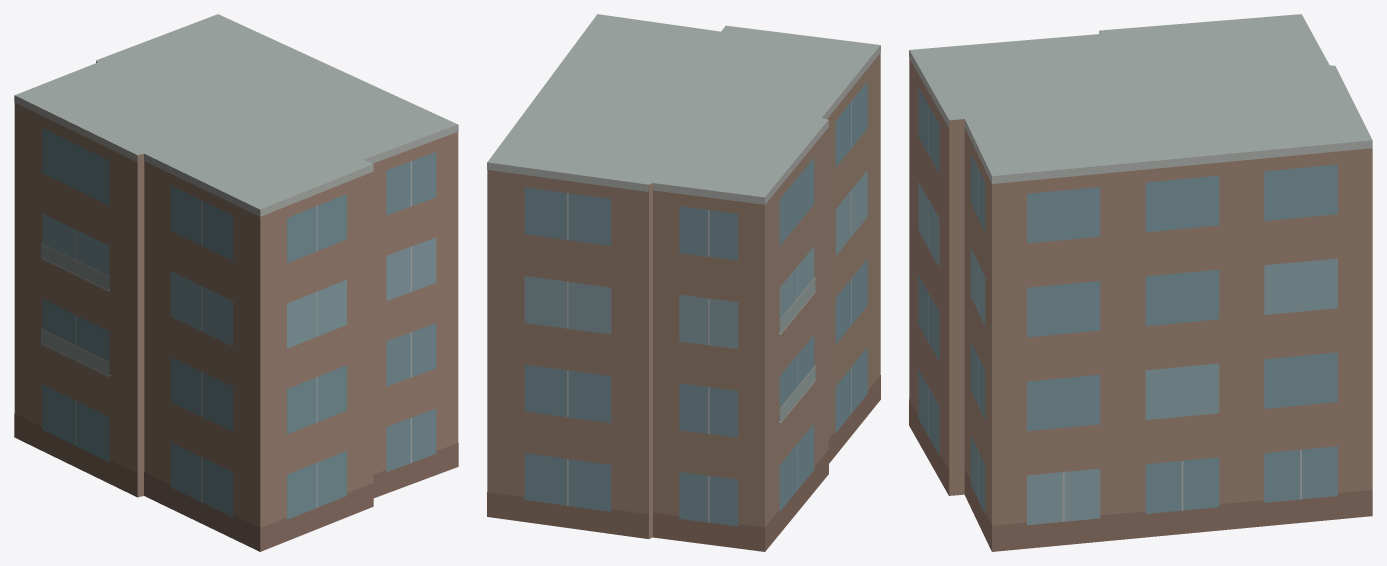
The model's file is survey-upis-32959602.glb.
The picture shows the model from 3 angles, left to right: view 1: azimuth 30°, elevation 25°; view 2: azimuth 150°, elevation 25°; view 3: azimuth 270°, elevation 25°; orthographic projection. The views are drawn at different scales.
Parts seen in each view (by area): view 1: survey-upis-32959602.tmp; view 2: survey-upis-32959602.tmp; view 3: survey-upis-32959602.tmp.
Part boxes in pixels (box(x1,y1,x2,y2)): survey-upis-32959602.tmp: box(14, 14, 458, 551); survey-upis-32959602.tmp: box(487, 14, 880, 551); survey-upis-32959602.tmp: box(909, 14, 1372, 551).
Bounding box in the file's own units: 10.85 × 11.7 × 13.1.
